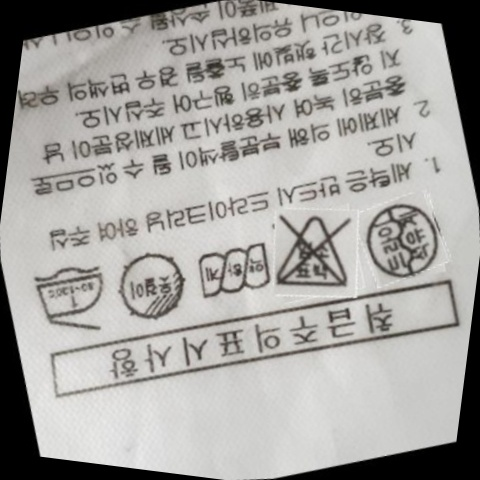dry_clean_petrol_only: (356, 187, 452, 292)
iron_low: (26, 251, 123, 343)
line_dry_in_shade: (105, 235, 206, 337)
non_chlorine_bleach: (268, 203, 366, 301)
wring: (189, 227, 283, 314)
